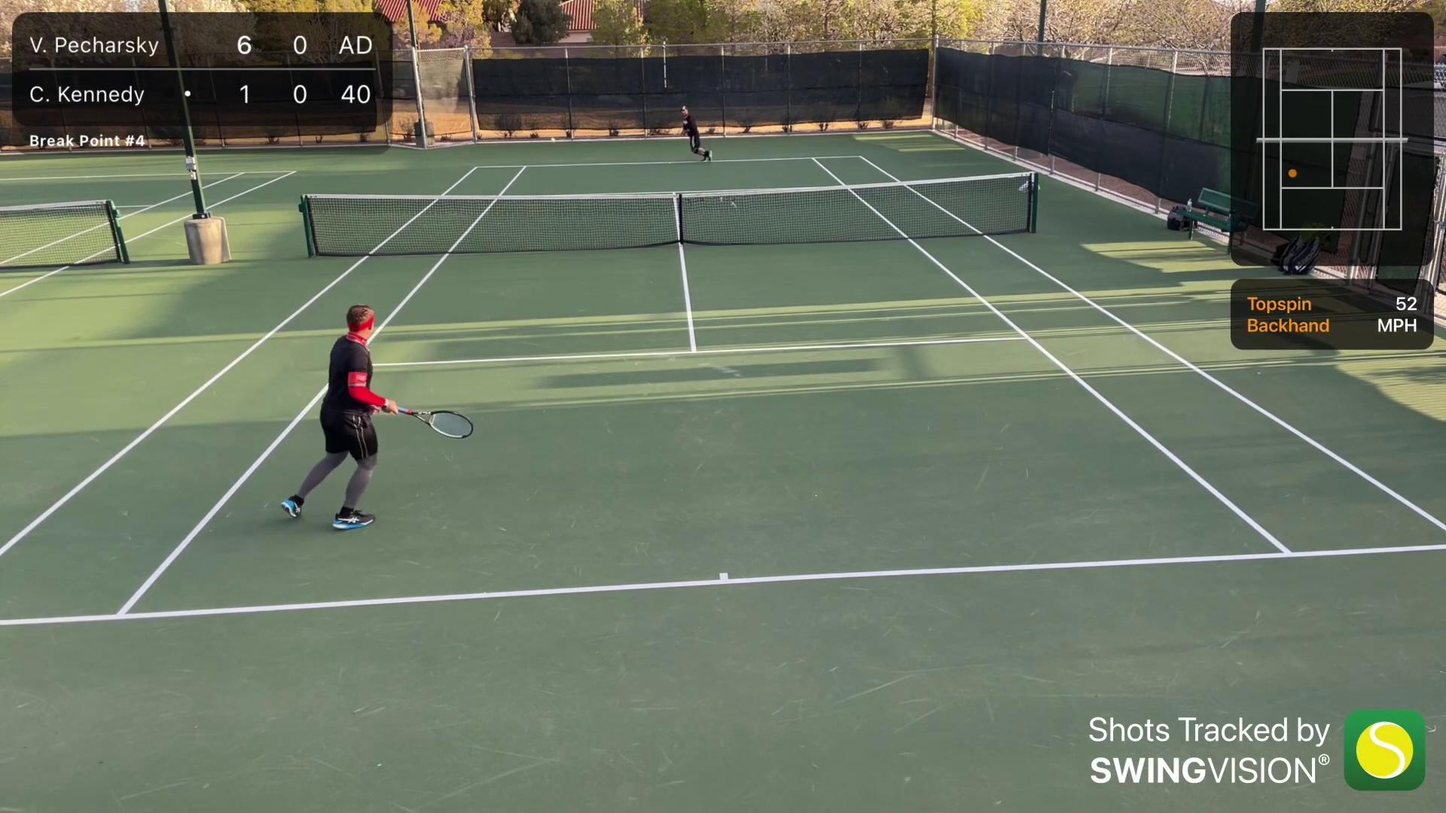ball: (551, 136, 558, 142)
